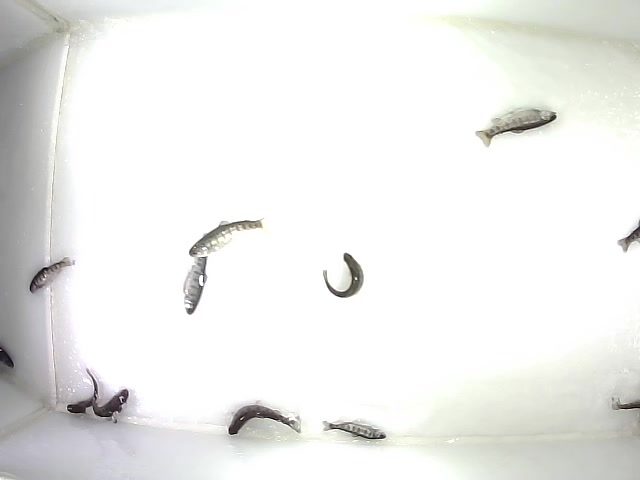fish: (473, 104, 559, 150), (188, 214, 270, 259), (181, 230, 213, 317), (228, 399, 303, 436), (322, 251, 365, 299), (28, 255, 77, 296), (321, 415, 387, 441), (66, 367, 100, 415), (91, 387, 129, 419)
